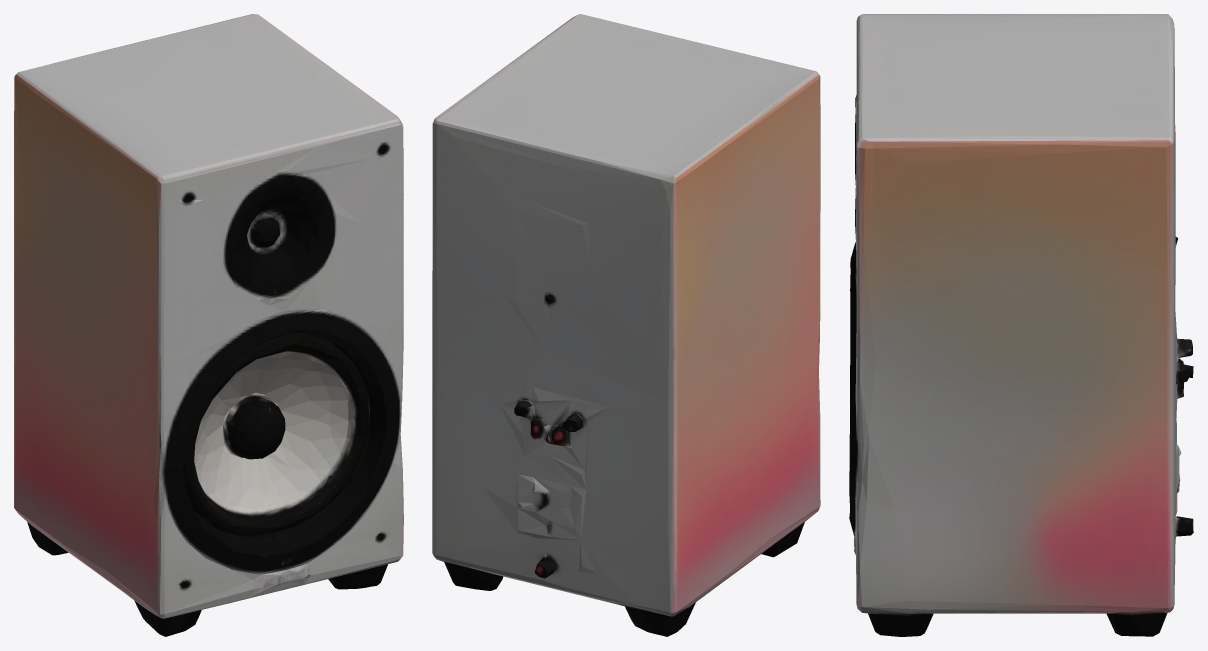
The model's file is studio_monitor.glb.
3 renders of one model, left to right at view 1: azimuth 30°, elevation 25°; view 2: azimuth 150°, elevation 25°; view 3: azimuth 270°, elevation 25°, orthographic. The views are drawn at different scales.
Visible parts, largest first — view 1: textured_mesh.obj; view 2: textured_mesh.obj; view 3: textured_mesh.obj.
Boxes of the visible parts, x1,y1,x2,y2 form: textured_mesh.obj: [14, 14, 403, 636]; textured_mesh.obj: [432, 14, 820, 636]; textured_mesh.obj: [849, 14, 1193, 636].
Bounding box in the file's own units: 0.384 × 0.7 × 0.4328.
1 material, 1 textured.
